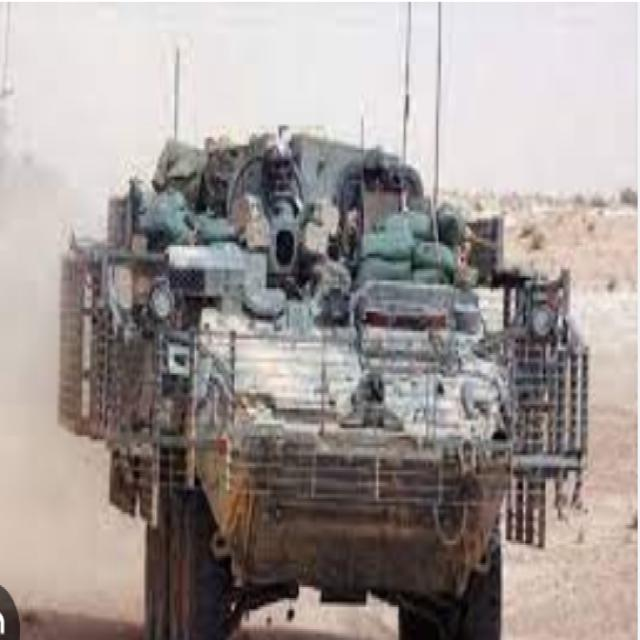MIL_APC: (62, 142, 584, 608)
